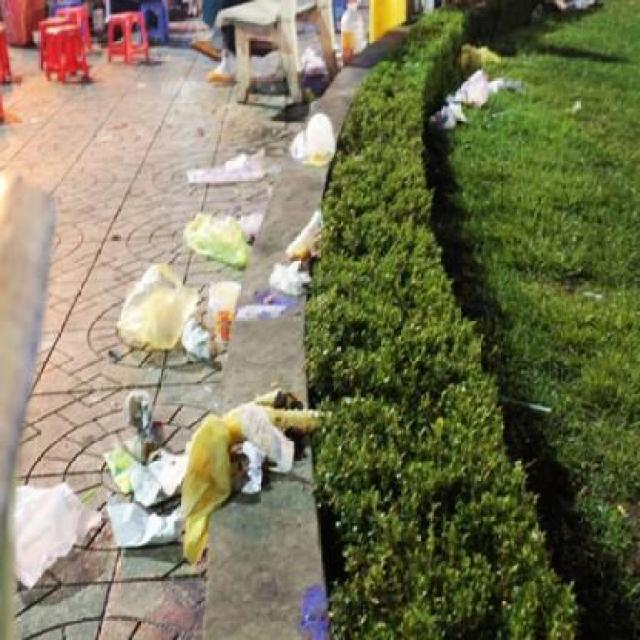plastic bag: (106, 380, 326, 554), (422, 31, 524, 155), (6, 463, 105, 588), (111, 249, 197, 357), (180, 197, 255, 277), (186, 146, 283, 192), (288, 109, 335, 177), (263, 251, 312, 303)
